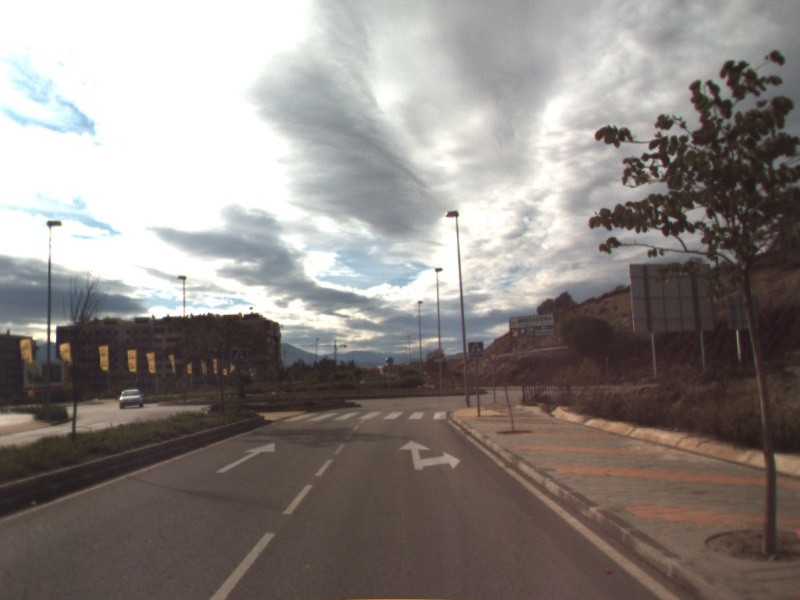STRAIGHT: (212, 441, 277, 475)
STRAIGHT_RIGHT: (396, 438, 463, 472)
